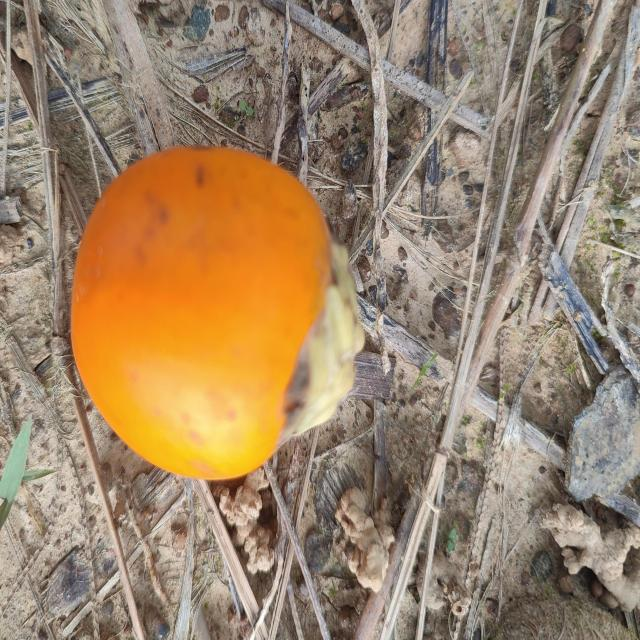good: (69, 147, 364, 484)
